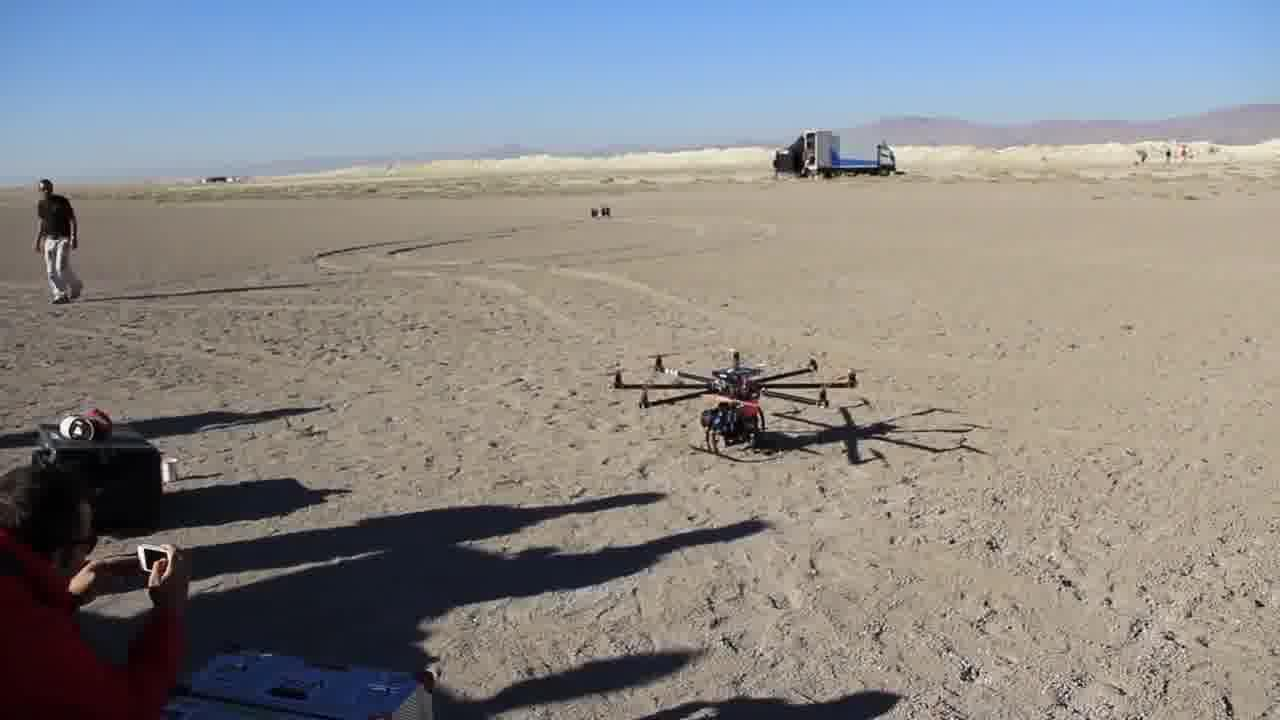drone: (603, 335, 855, 469)
